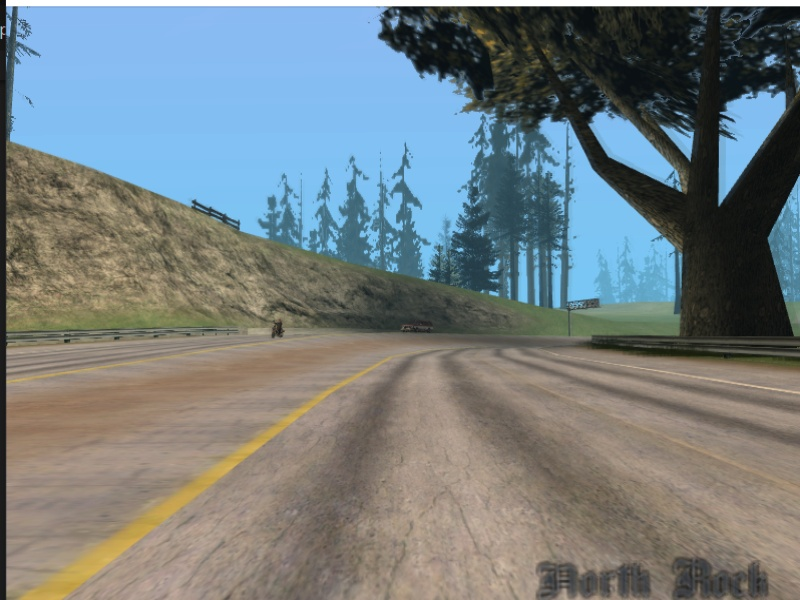pole: (566, 303, 573, 338)
vehicle: (398, 317, 436, 335), (268, 316, 287, 341)
